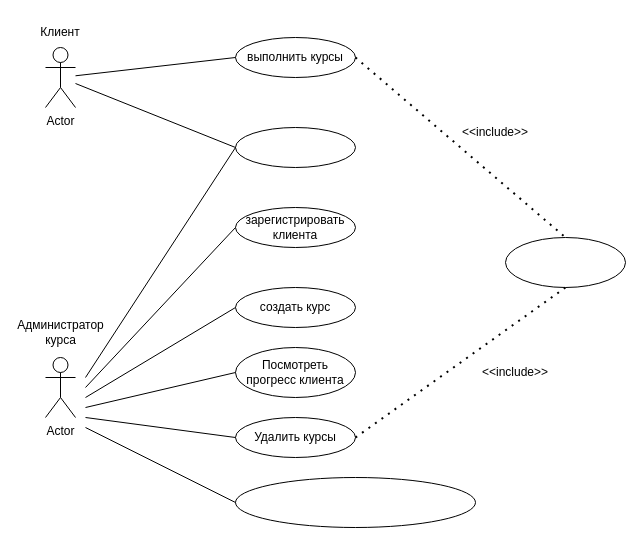
Image size: 643x545. Some labels were removed from this diagram. Each missing label, with the centre of its shape:
"войти в систему" goes at pixel 295 147.
"Выдача сертификата клиенту при успешном выполнении курса" goes at pixel 355 502.
"Посмотреть курсы" goes at pixel 565 262.
